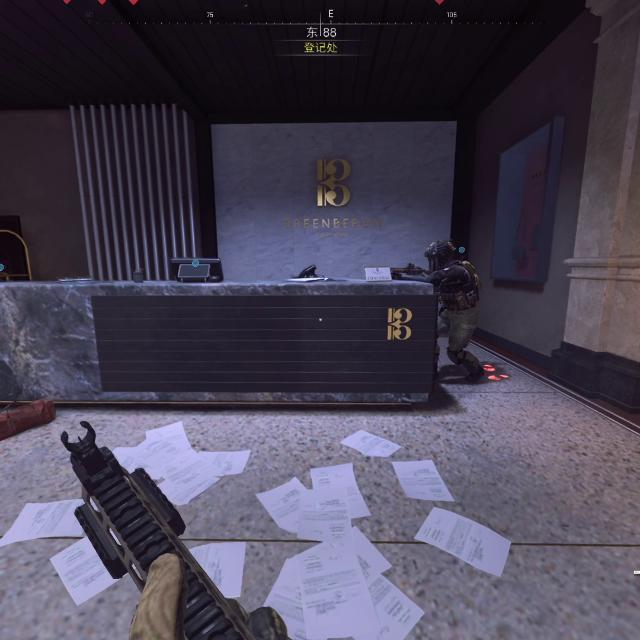MW2_body: (427, 241, 484, 382)
